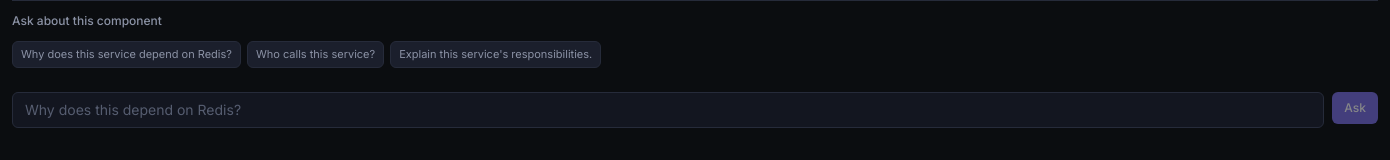
NodeQuestionPanel - composer › clicking a suggestion fills the input, ready to send - does not submit immediately on its own
Click the button "Why does this service depend on Redis?" at coordinates (126, 54), box x1=12 y1=41 x2=241 y2=68
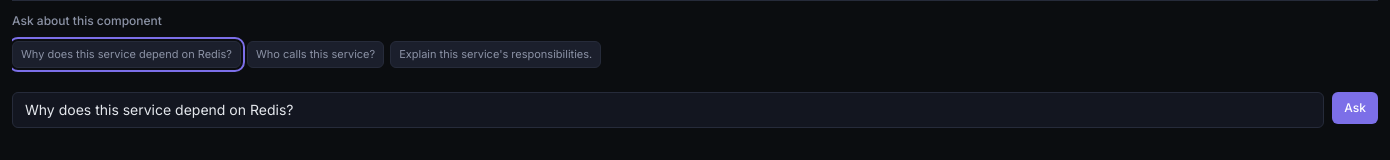
expect the field with placeholder "Why does this depend on Redis?" holds "Why does this service depend on Redis?": met, box x1=12 y1=92 x2=1324 y2=128
